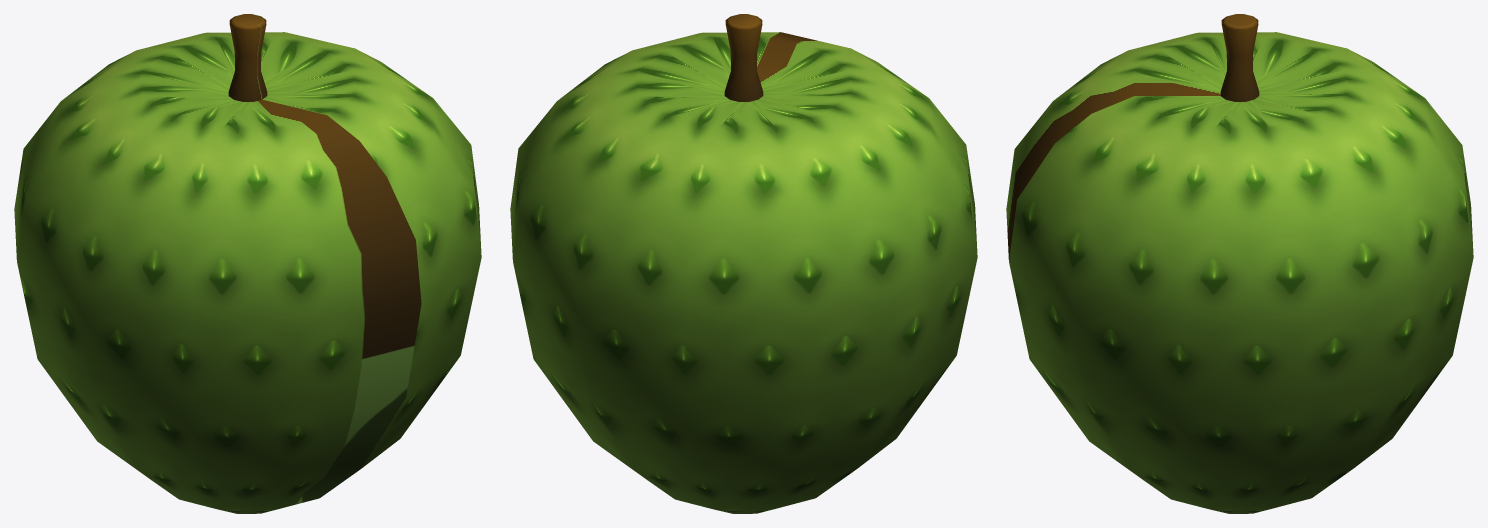
File: Cherimoya.fbx
3 renders of one model, left to right at view 1: azimuth 30°, elevation 25°; view 2: azimuth 150°, elevation 25°; view 3: azimuth 270°, elevation 25°, orthographic.
Parts seen in each view (by area): view 1: Cherimoya; view 2: Cherimoya; view 3: Cherimoya.
Boxes of the visible parts, x1,y1,x2,y2 form: Cherimoya: (14,14,481,513); Cherimoya: (510,14,977,513); Cherimoya: (1006,14,1473,513).
Bounding box in the file's own units: 42.86 × 49 × 42.86.
